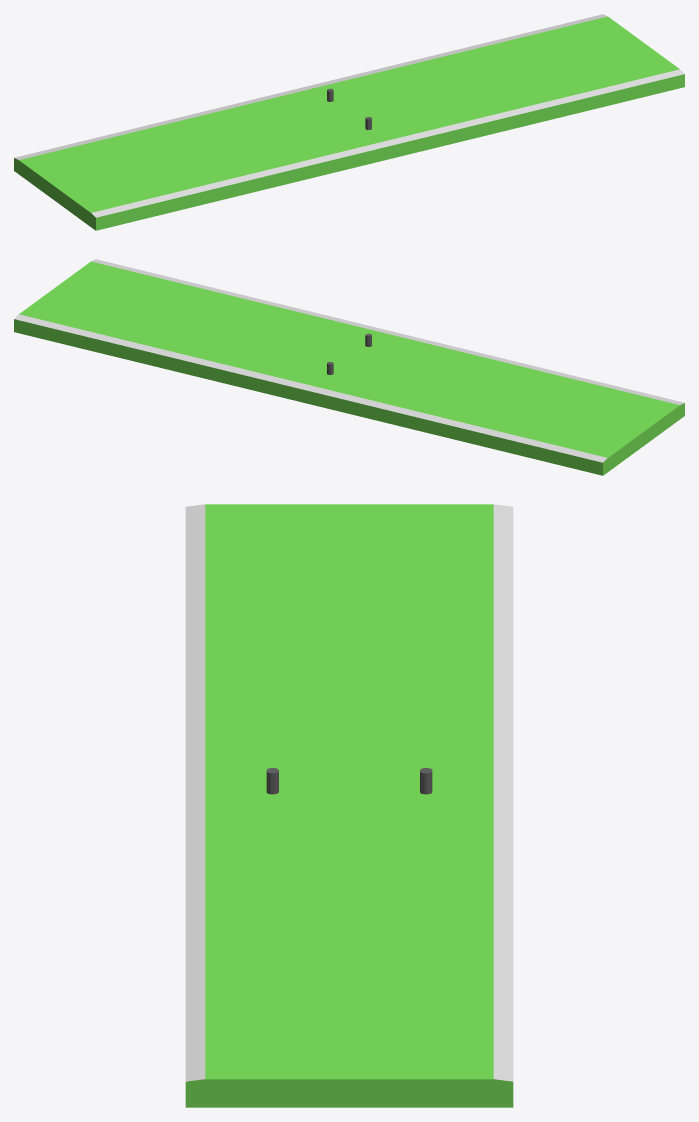
Rendered from ground07.fbx.
3 renders of one model, top to bottom at view 1: azimuth 30°, elevation 25°; view 2: azimuth 150°, elevation 25°; view 3: azimuth 270°, elevation 25°, orthographic. The views are drawn at different scales.
Visible parts, largest first — view 1: ground07; view 2: ground07; view 3: ground07.
Part boxes in pixels (box(x1,y1,x2,y2)): ground07: box(14, 14, 684, 230); ground07: box(14, 259, 684, 475); ground07: box(185, 504, 513, 1107).
Size of the model in its own units: 714 by 40.98 by 172.
